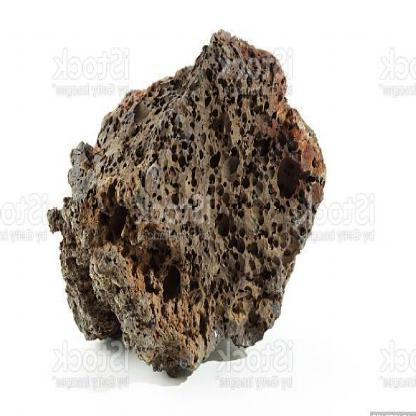Igneous_Basalt: (46, 21, 334, 376)
